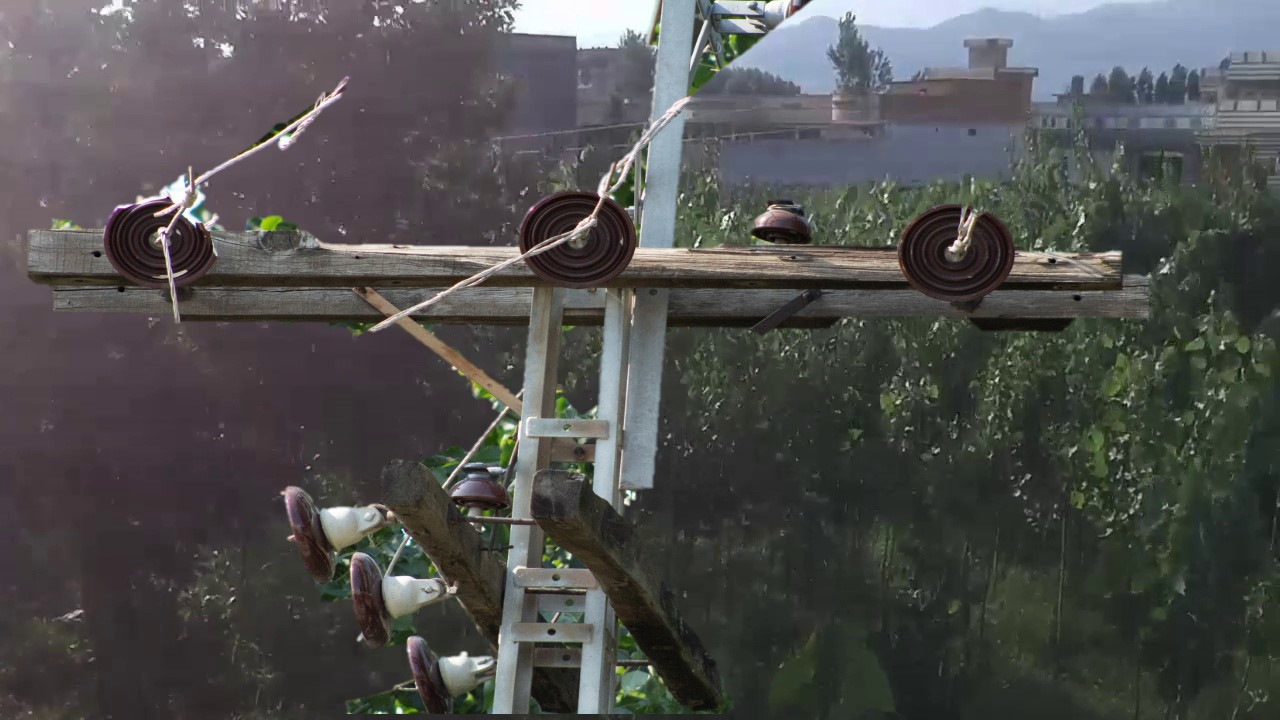defect_disc: (101, 189, 222, 292)
insulator_disc: (514, 183, 640, 294), (889, 197, 1019, 304), (394, 626, 480, 711), (280, 479, 342, 592), (346, 549, 403, 650)
insulator_pin: (437, 452, 516, 519), (752, 191, 817, 247)
